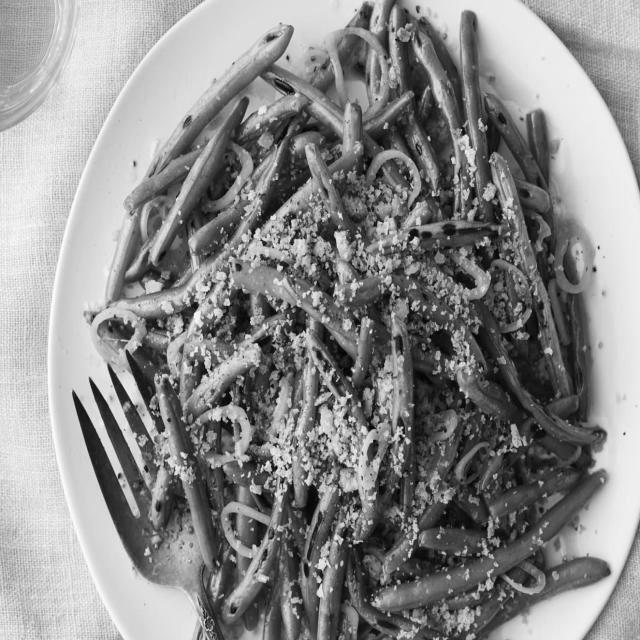Beans: (106, 0, 618, 639)
